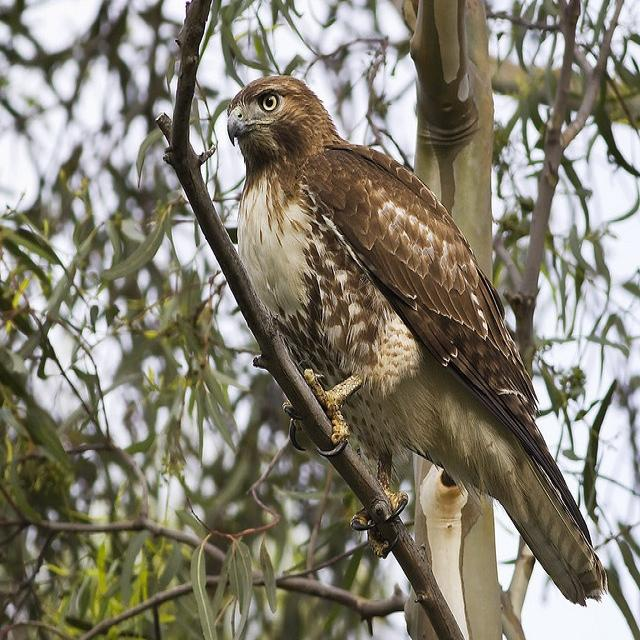bird: (216, 74, 615, 609)
